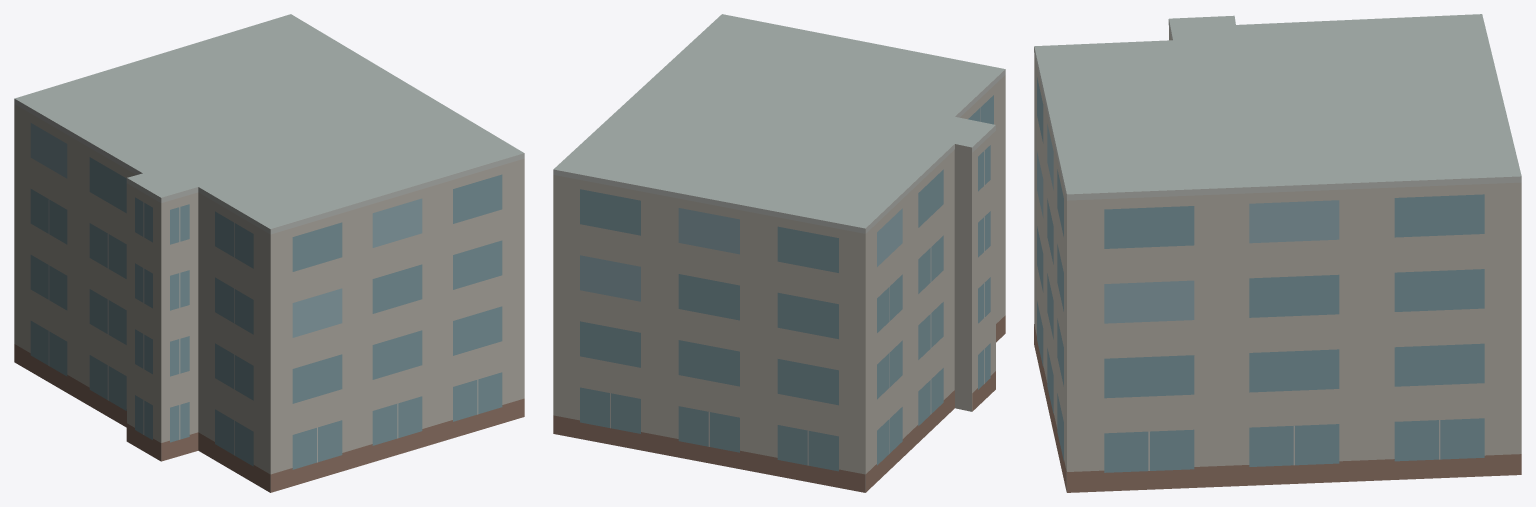
The model's file is survey-upis-32555884.glb.
The picture shows the model from 3 angles, left to right: view 1: azimuth 30°, elevation 25°; view 2: azimuth 150°, elevation 25°; view 3: azimuth 270°, elevation 25°; orthographic projection. The views are drawn at different scales.
Visible parts, largest first — view 1: survey-upis-32555884.tmp; view 2: survey-upis-32555884.tmp; view 3: survey-upis-32555884.tmp.
Boxes of the visible parts, x1,y1,x2,y2 form: survey-upis-32555884.tmp: [14, 14, 524, 492]; survey-upis-32555884.tmp: [553, 14, 1005, 492]; survey-upis-32555884.tmp: [1034, 14, 1521, 492].
Size of the model in its own units: 15.44 by 11.9 by 17.63.
